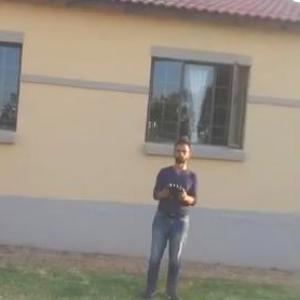follow: (136, 133, 200, 299)
